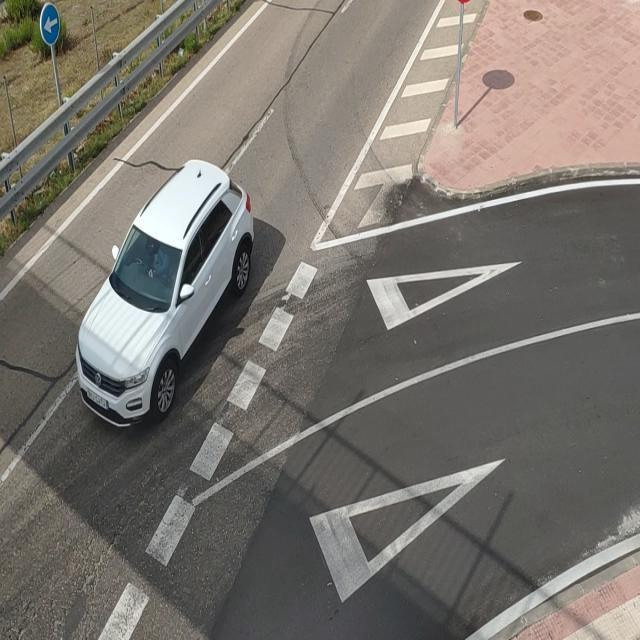Car: (75, 158, 258, 436)
